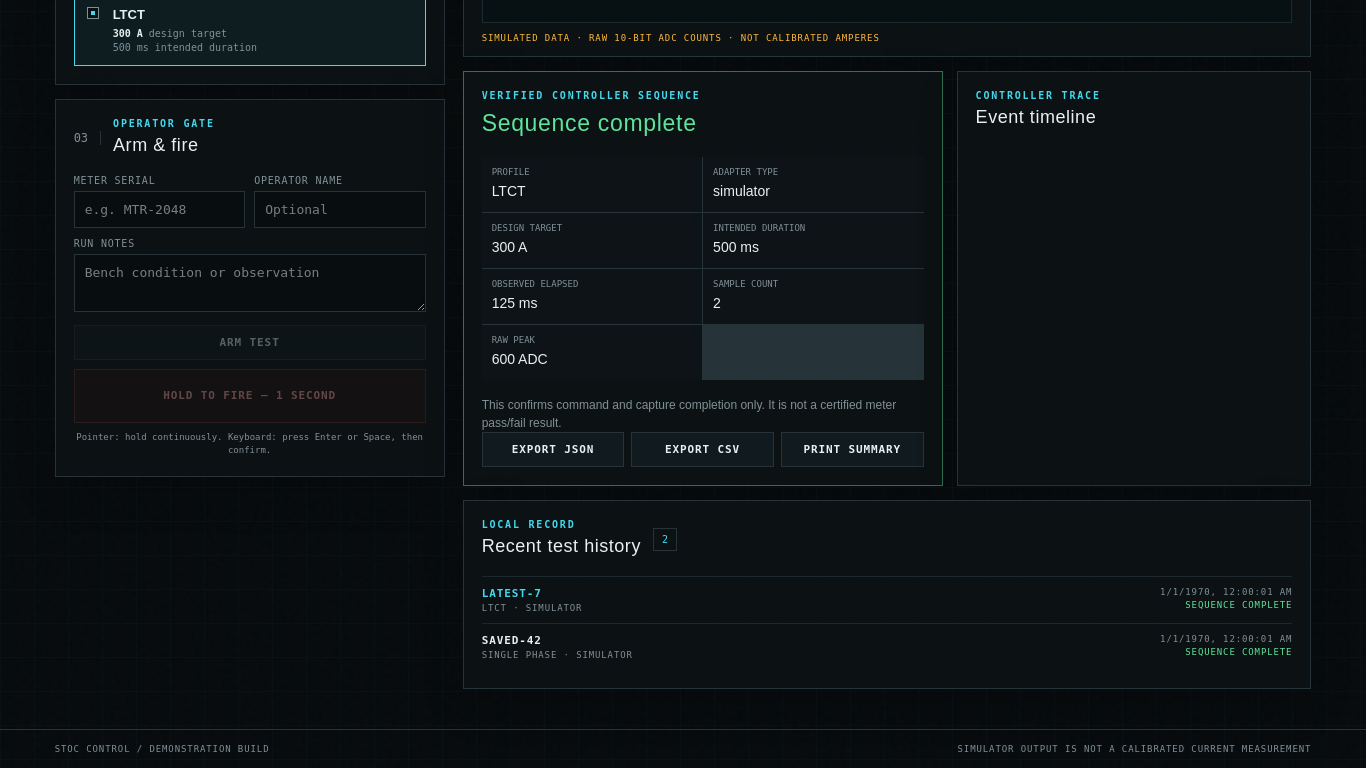
Test: App › lets a saved history selection replace the latest live result
The width and height of the screenshot is (1366, 768).
(page scrolled)
expect the text "LATEST-7" is shown: met, box [482,586,542,600]
Click the button with aria-label "open run saved-42": point(512, 640) [482,624,1292,670]
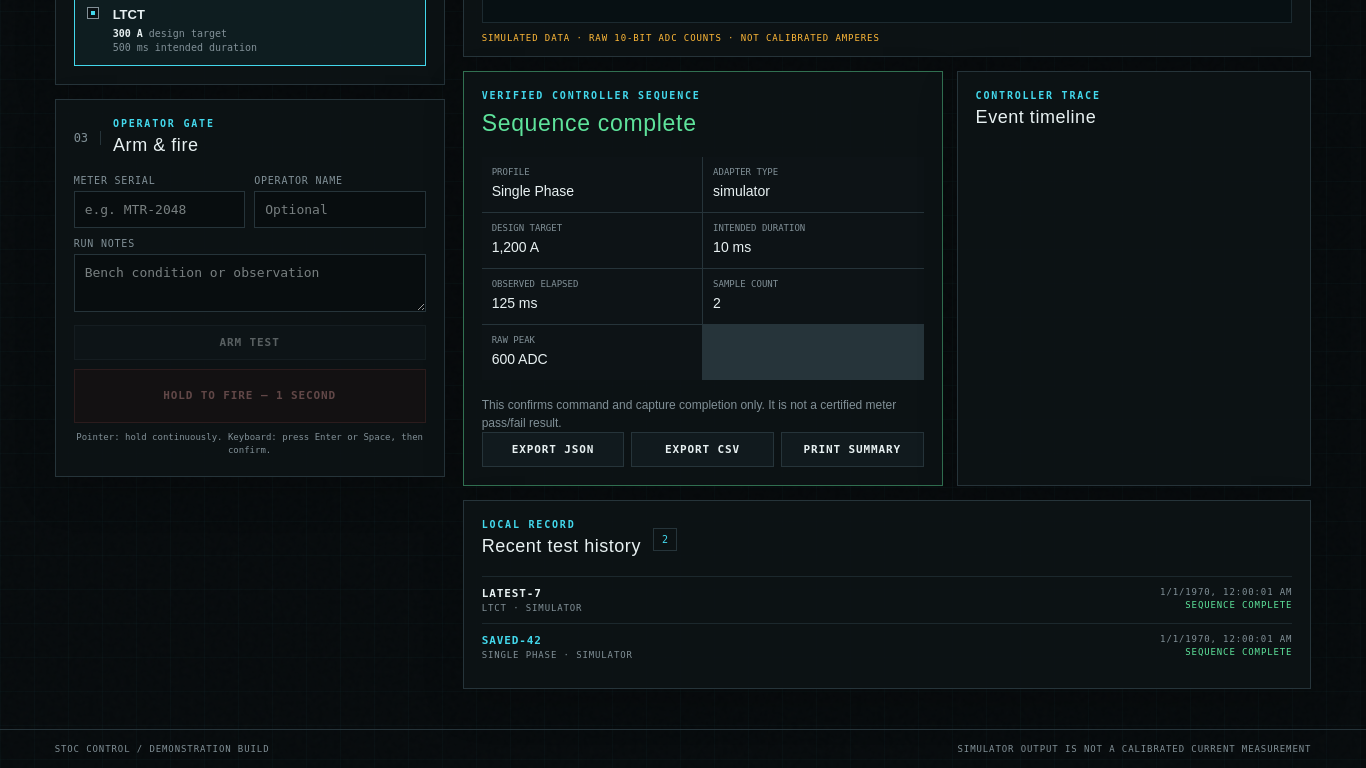
expect the element named "run instrumentation" shows "Single Phase": met, box [492,182,574,198]
